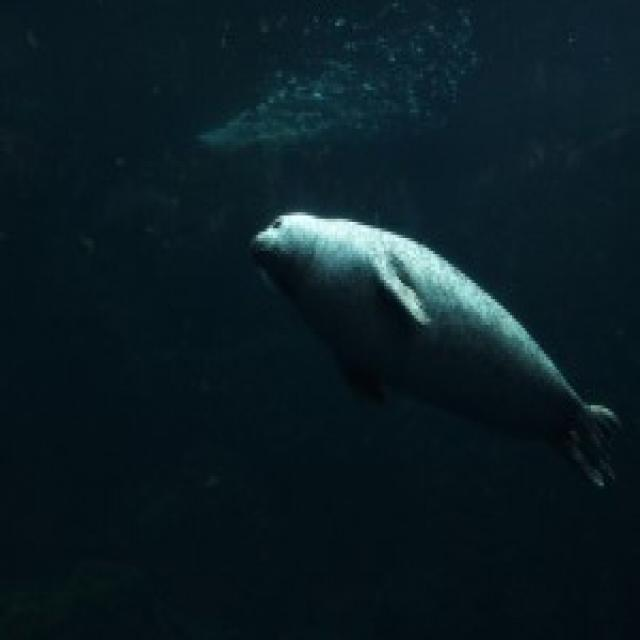Seal: (224, 192, 637, 538)
